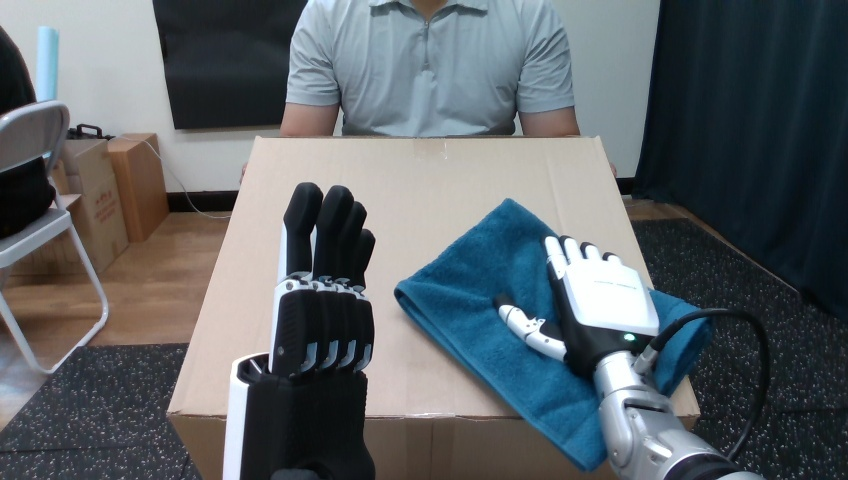left robot hand: (494, 236, 769, 479), (223, 182, 374, 478), (651, 315, 761, 456)
